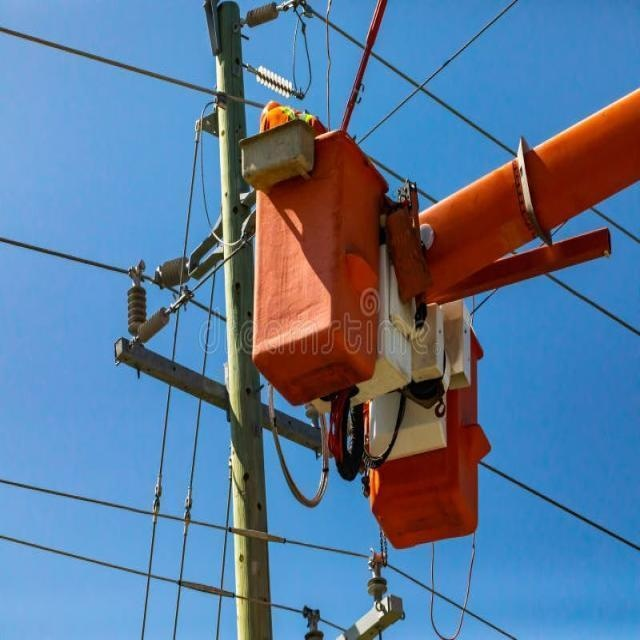Arnes_seguridad: (281, 103, 316, 136)
